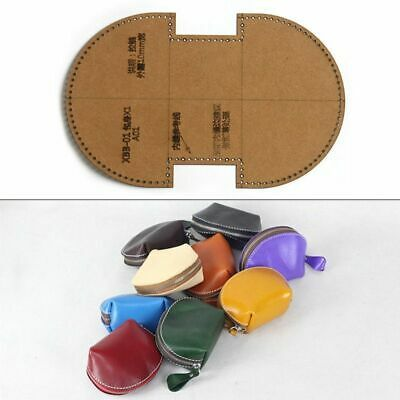cuero: (85, 203, 327, 395)
